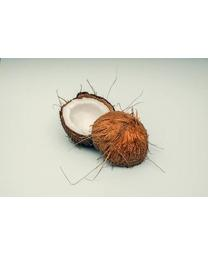coconut: (60, 92, 118, 150), (91, 111, 148, 168)
